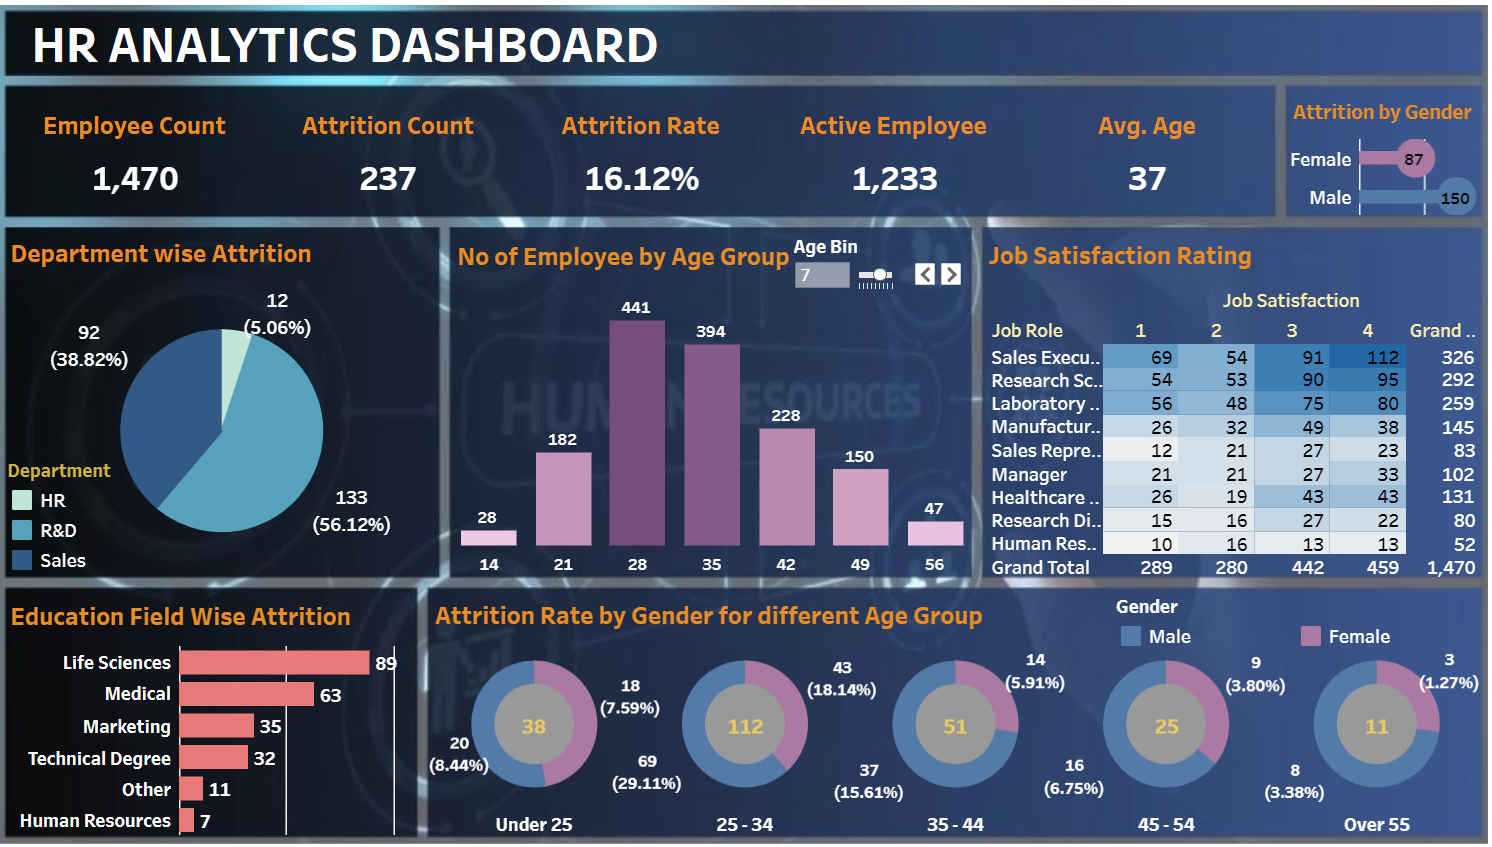

The page's visual inventory and layout, read from the dashboard file:
{"tool":"tableau","page":{"name":"HR Dashboard","canvas":[1036,583],"ordinal":0},"visuals":[{"type":"image","param":"C:/Users/Y Nguyen/Desktop/folder/DA/DA_Github/HR_Analytics/Background.jpg","box":[8,8,1020,567]},{"type":"text","box":[26,16,452,42]},{"type":"worksheet","title":"Employee","mark":"Automatic","box":[27,66,844,86]},{"type":"worksheet","title":"Gender of Employees","mark":"Automatic","rows":["Gender"],"cols":["Calculation_1415537680351703040","Calculation_1415537680351703040"],"box":[880,67,129,85]},{"type":"worksheet","title":"Department wise Attrition","mark":"Pie","box":[25,159,289,235]},{"type":"worksheet","title":"Job Satisfaction Rating","mark":"Square","rows":["Job Role"],"cols":["Job Satisfaction"],"box":[677,160,333,234]},{"type":"worksheet","title":"No of Employee by Age Group","mark":"Automatic","rows":["Employee Count"],"cols":["Age (bin)"],"box":[323,161,347,231]},{"type":"parameter","param":"[Parameters].[Parameter 1]","box":[551,163,115,48]},{"type":"legend","title":"Department wise Attrition","param":"[federated.1iawjko03m7sn213bypk60r6w93a].[none:Department:nk]","box":[27,313,140,78]},{"type":"worksheet","title":"Attrition Rate by Gender for different Age Group","mark":"Pie","rows":["Calculation_631911348341780485","Calculation_631911348341780485"],"cols":["CF_age band"],"box":[308,400,702,166]},{"type":"worksheet","title":"Education Field Wise Attrition","mark":"Automatic","rows":["Education Field"],"cols":["Calculation_1415537680351703040"],"box":[25,401,273,165]},{"type":"legend","title":"Attrition Rate by Gender for different Age Group","param":"[federated.1iawjko03m7sn213bypk60r6w93a].[none:Gender:nk]","box":[766,404,245,52]}]}

Visuals, with their boxes in screenshot pixels (x1, y1, x2, y2), scaled from the page's 1036x583 canvas onto the 1492x847 screenshot:
image: crop(12, 12, 1480, 835)
text: crop(37, 23, 688, 84)
"Employee" worksheet: crop(39, 96, 1254, 221)
"Gender of Employees" worksheet: crop(1267, 97, 1453, 221)
"Department wise Attrition" worksheet (Pie marks): crop(36, 231, 452, 572)
"Job Satisfaction Rating" worksheet (Square marks): crop(975, 232, 1455, 572)
"No of Employee by Age Group" worksheet: crop(465, 234, 965, 570)
parameter: crop(794, 237, 959, 307)
"Department wise Attrition" legend: crop(39, 455, 241, 568)
"Attrition Rate by Gender for different Age Group" worksheet (Pie marks): crop(444, 581, 1455, 822)
"Education Field Wise Attrition" worksheet: crop(36, 583, 429, 822)
"Attrition Rate by Gender for different Age Group" legend: crop(1103, 587, 1456, 662)
